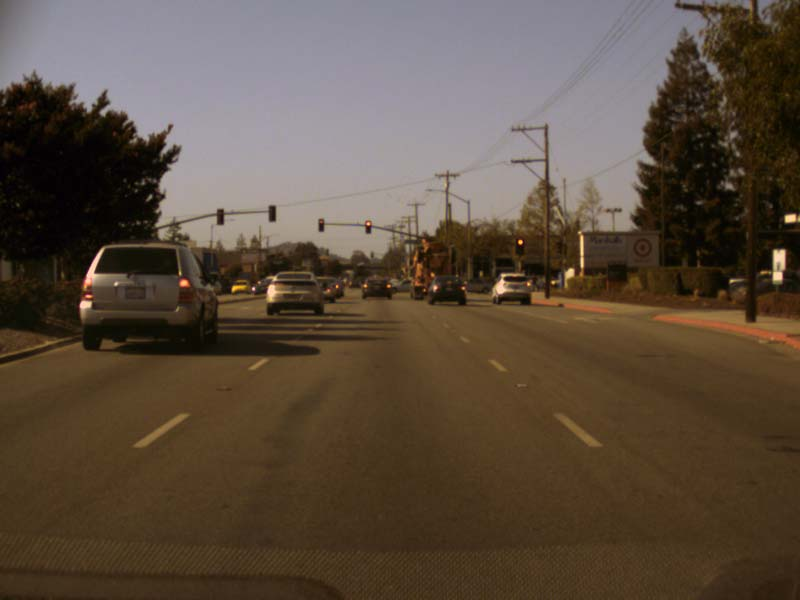Red: (516, 234, 525, 253), (364, 221, 371, 232), (318, 218, 323, 230), (370, 251, 373, 257)
